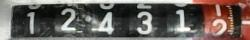digits: (208, 1, 230, 38), (171, 5, 195, 34), (134, 11, 152, 34), (97, 11, 114, 34), (60, 8, 76, 30), (27, 12, 35, 34)
